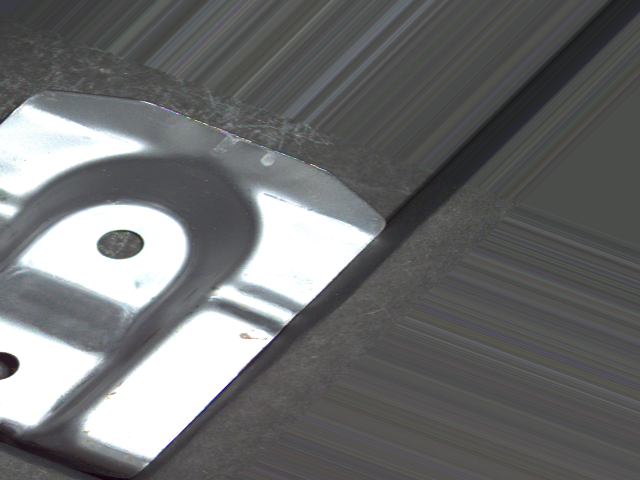defect: (94, 228, 150, 261)
